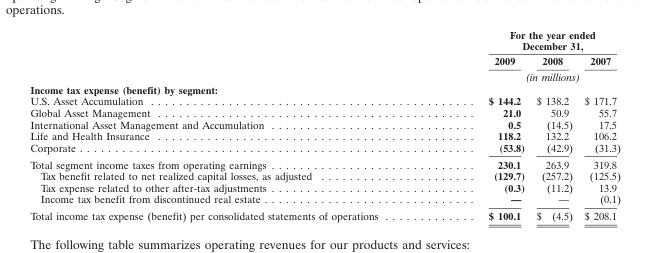table: (29, 28, 619, 221)
table column: (29, 28, 432, 221), (432, 28, 529, 221), (529, 28, 577, 221), (577, 28, 619, 221)
table column header: (29, 28, 619, 82)
table projected row header: (29, 82, 619, 94)
table row: (29, 28, 619, 52), (29, 52, 619, 68), (29, 192, 619, 207), (29, 68, 619, 82), (29, 141, 619, 155), (29, 155, 619, 169), (29, 207, 619, 221), (29, 82, 619, 94), (29, 94, 619, 106), (29, 106, 619, 118), (29, 129, 619, 141), (29, 169, 619, 181), (29, 118, 619, 129), (29, 181, 619, 192)
table spanning cell: (432, 28, 619, 52), (432, 68, 619, 82)
